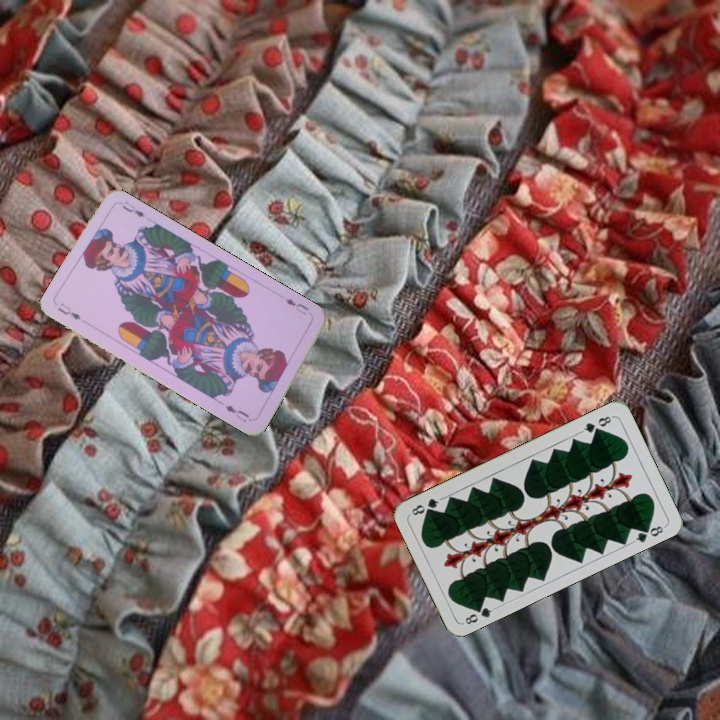EU: (281, 294, 311, 318), (54, 299, 83, 323)
G8: (461, 600, 498, 627), (577, 412, 616, 435)
